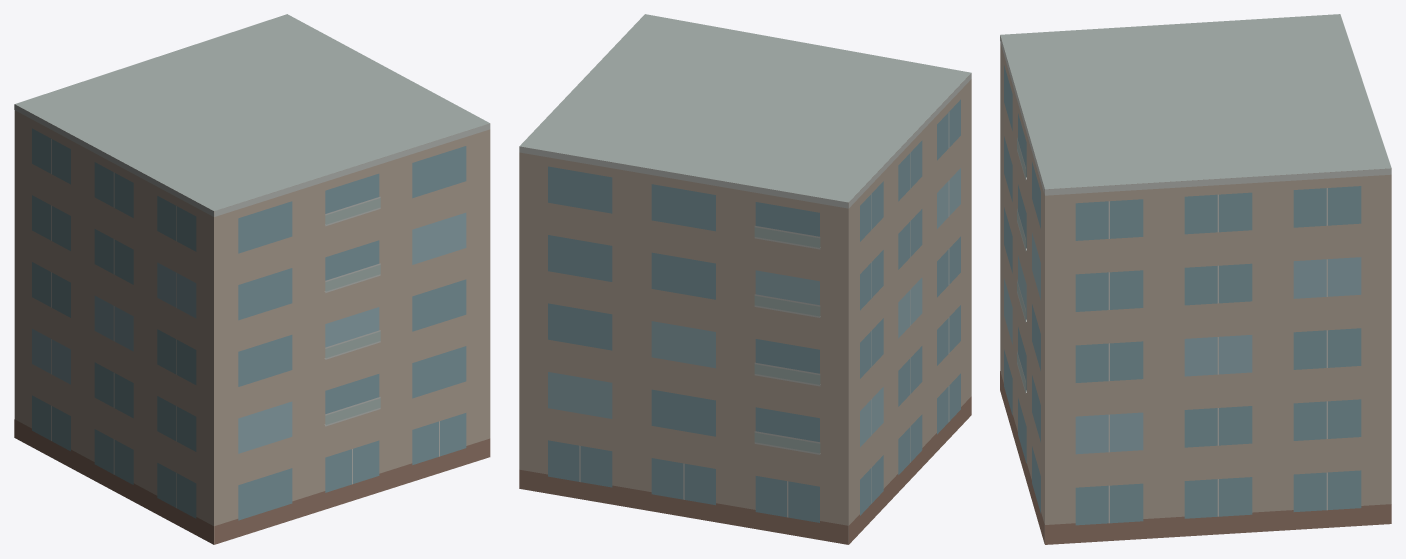
Rendered from survey-upis-32716159.glb.
3 renders of one model, left to right at view 1: azimuth 30°, elevation 25°; view 2: azimuth 150°, elevation 25°; view 3: azimuth 270°, elevation 25°, orthographic. The views are drawn at different scales.
Parts seen in each view (by area): view 1: survey-upis-32716159.tmp; view 2: survey-upis-32716159.tmp; view 3: survey-upis-32716159.tmp.
Part boxes in pixels (left/top/right/bottom): survey-upis-32716159.tmp: left=14, top=14, right=490, bottom=544; survey-upis-32716159.tmp: left=519, top=14, right=971, bottom=544; survey-upis-32716159.tmp: left=1000, top=14, right=1391, bottom=544.
Bounding box in the file's own units: 14.5 × 13.7 × 13.69.
